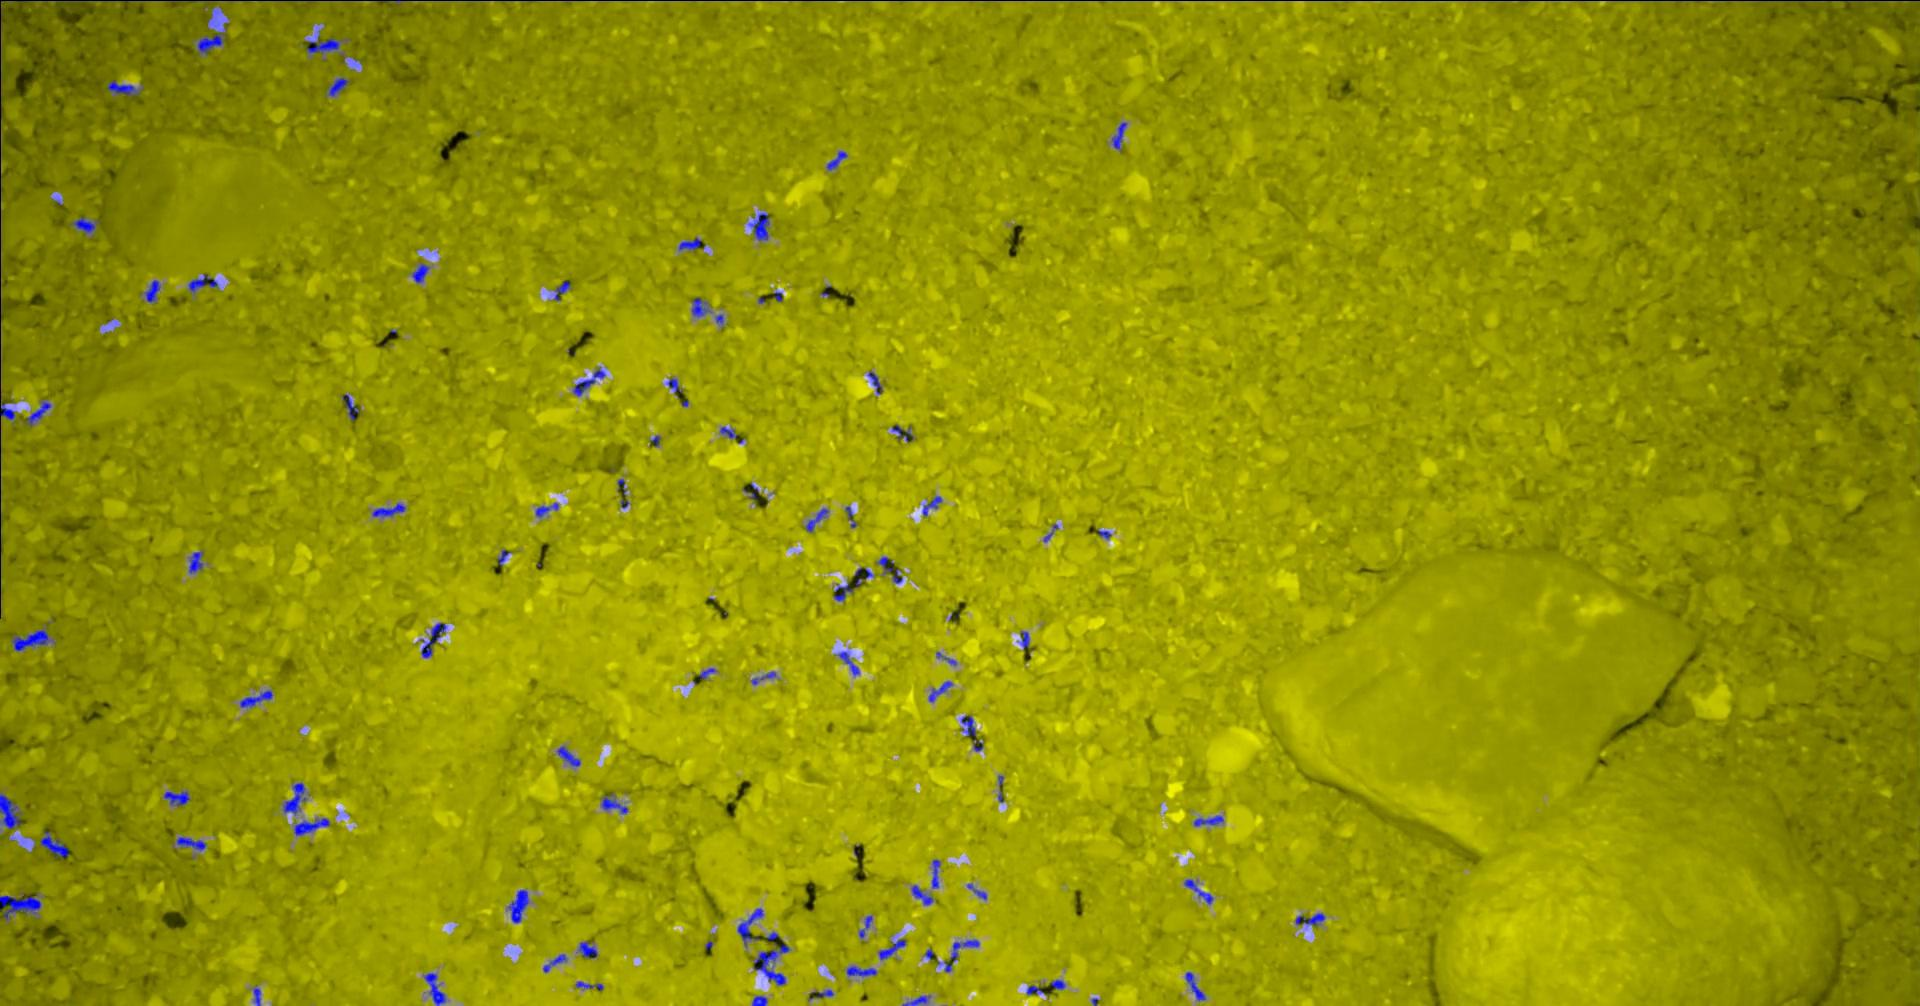ant: (756, 942, 791, 984), (1, 893, 42, 920), (739, 908, 764, 945), (423, 622, 448, 657), (13, 629, 50, 652), (574, 370, 607, 395), (41, 829, 70, 857), (963, 714, 984, 751), (1, 793, 23, 828), (425, 972, 448, 1005), (1185, 879, 1214, 903), (284, 782, 307, 813), (509, 889, 530, 923), (879, 556, 904, 583), (951, 939, 980, 962), (295, 817, 331, 835), (199, 30, 226, 55), (1186, 970, 1208, 1000), (241, 688, 274, 708), (309, 36, 342, 53), (28, 401, 52, 426), (108, 79, 141, 95), (880, 939, 907, 959), (750, 212, 770, 240), (930, 680, 954, 701), (603, 793, 629, 813), (375, 502, 408, 517), (74, 216, 102, 234), (190, 274, 218, 292), (808, 508, 829, 531), (557, 746, 582, 766), (343, 394, 361, 420), (841, 652, 861, 674), (828, 150, 850, 170), (913, 884, 935, 904), (543, 954, 568, 972), (329, 77, 350, 97), (1112, 122, 1128, 149), (924, 495, 943, 516), (178, 836, 208, 848), (146, 279, 163, 302), (893, 424, 916, 441), (1297, 912, 1326, 925), (693, 297, 712, 316), (856, 567, 874, 587), (165, 791, 190, 805), (537, 502, 560, 517), (413, 263, 430, 282), (555, 279, 571, 300), (968, 883, 988, 899), (869, 371, 884, 392), (1, 398, 17, 419), (681, 238, 706, 250), (860, 915, 874, 937), (836, 583, 855, 600), (1195, 815, 1225, 826), (753, 671, 777, 683), (190, 551, 204, 573), (848, 965, 877, 976), (580, 941, 598, 958), (903, 995, 931, 1005), (668, 379, 683, 396), (809, 989, 836, 1000), (933, 859, 942, 888), (577, 981, 604, 989), (721, 426, 738, 438), (1029, 984, 1046, 995), (753, 995, 770, 1005), (1022, 630, 1031, 648), (1051, 979, 1067, 989), (255, 987, 262, 1005), (166, 0, 217, 1)
